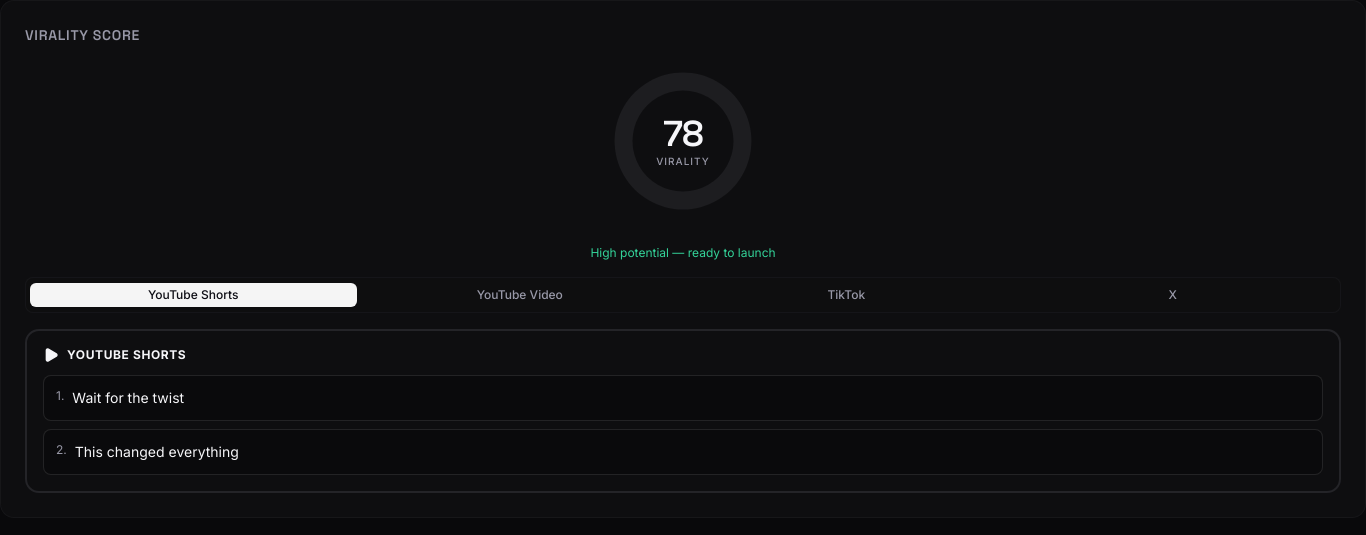
PlatformPreviewCanvas › shows TikTok fallback with hooks
This screenshot has width=1366, height=535.
Step 1. Click the tab "TikTok" → point(846, 295), box [683, 283, 1010, 307]
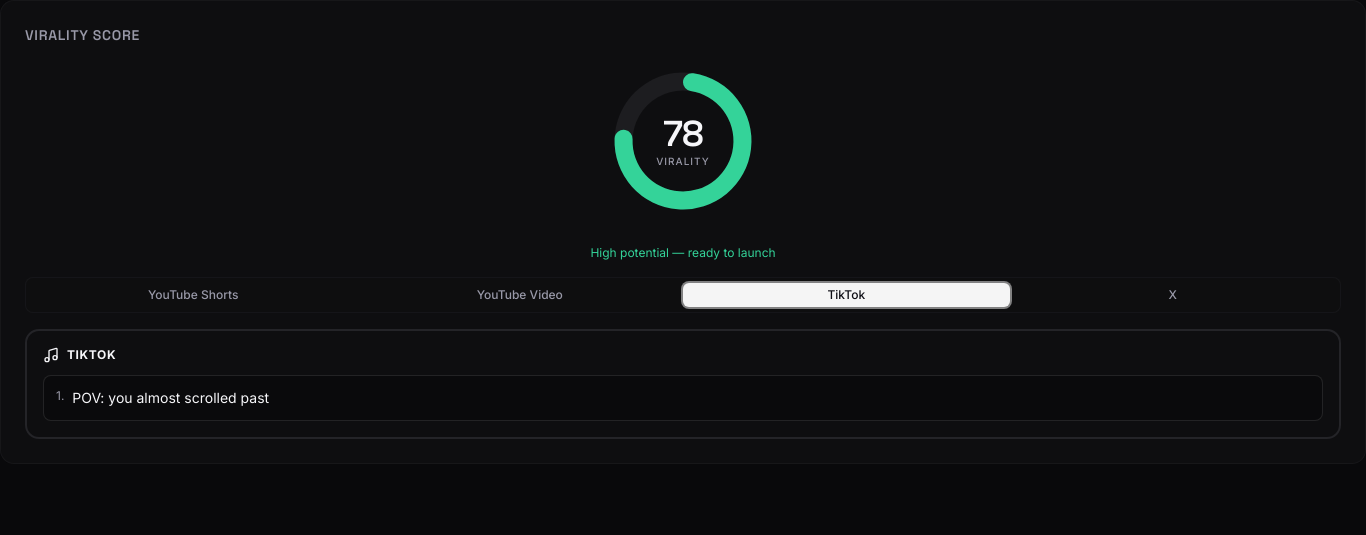
Now the text "POV: you almost scrolled past" is shown, box [72, 388, 269, 408]
